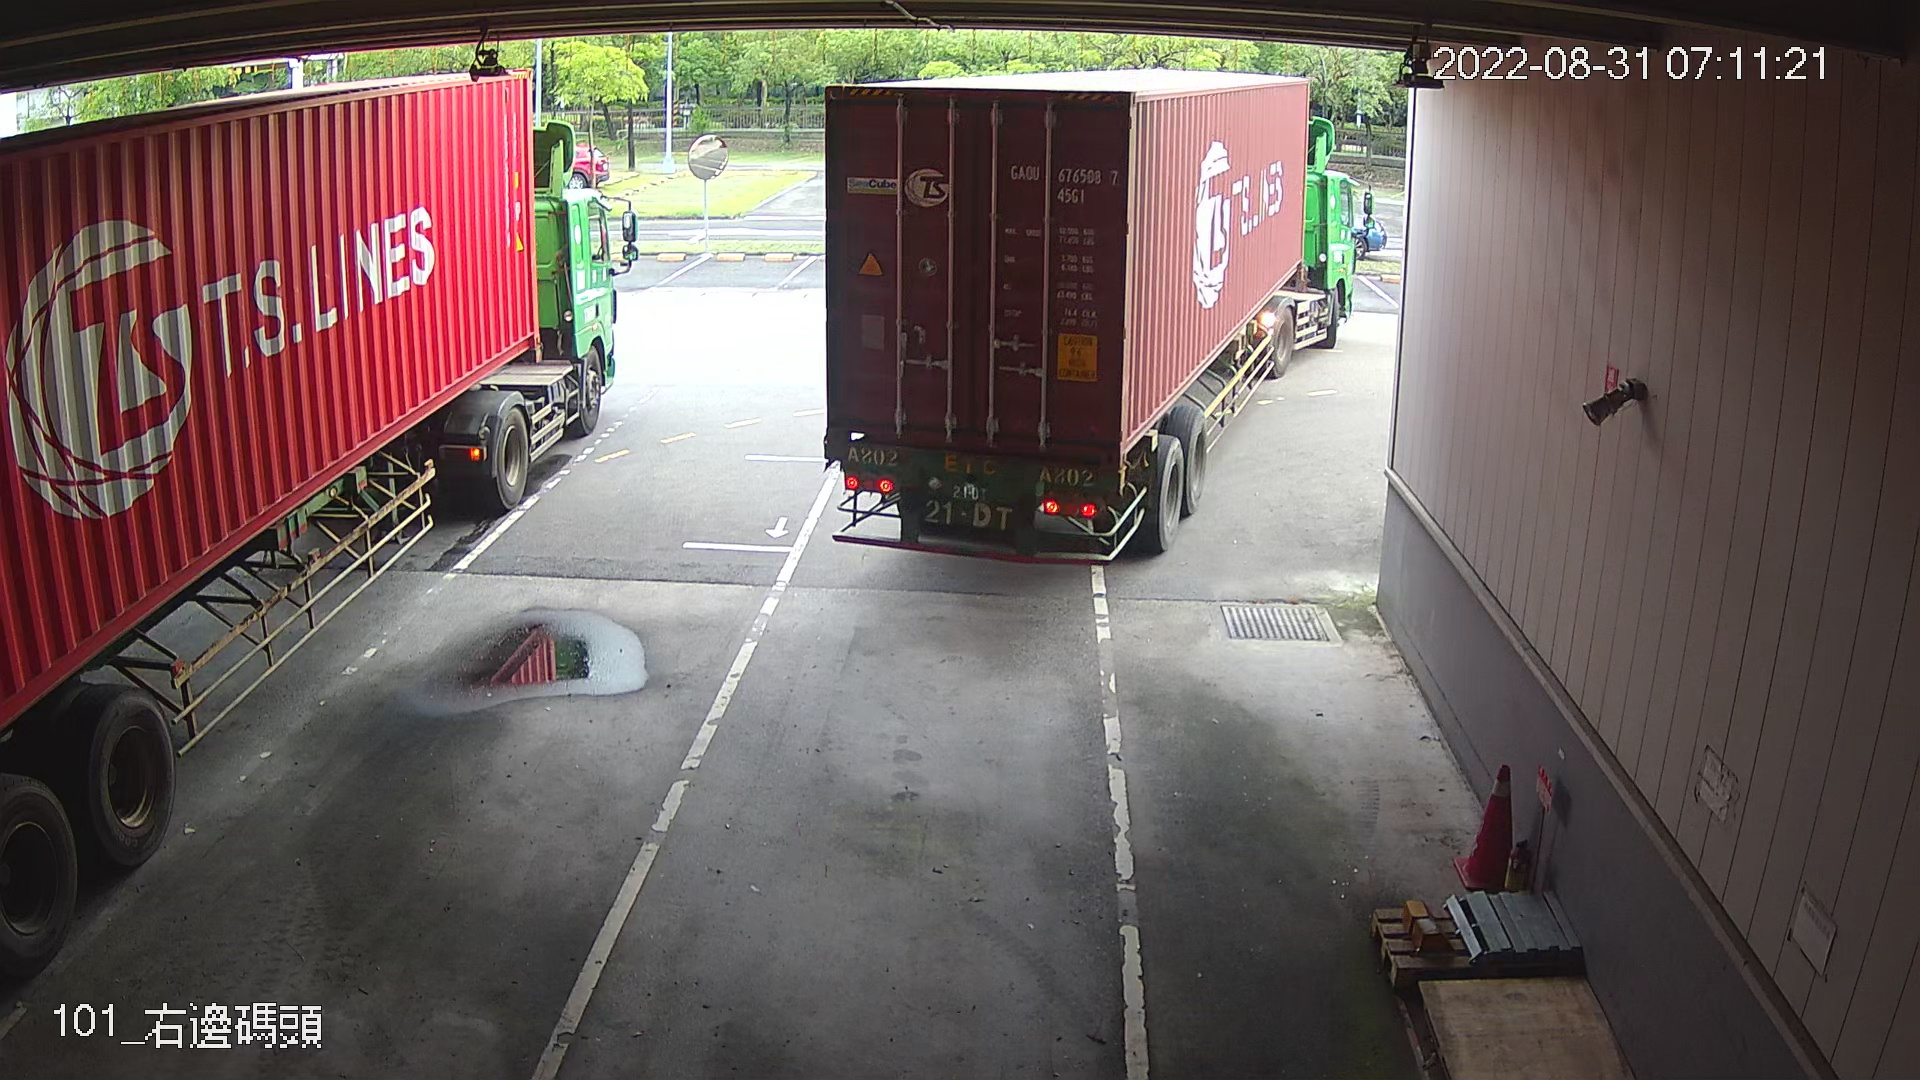container: (1000, 154, 1122, 210)
